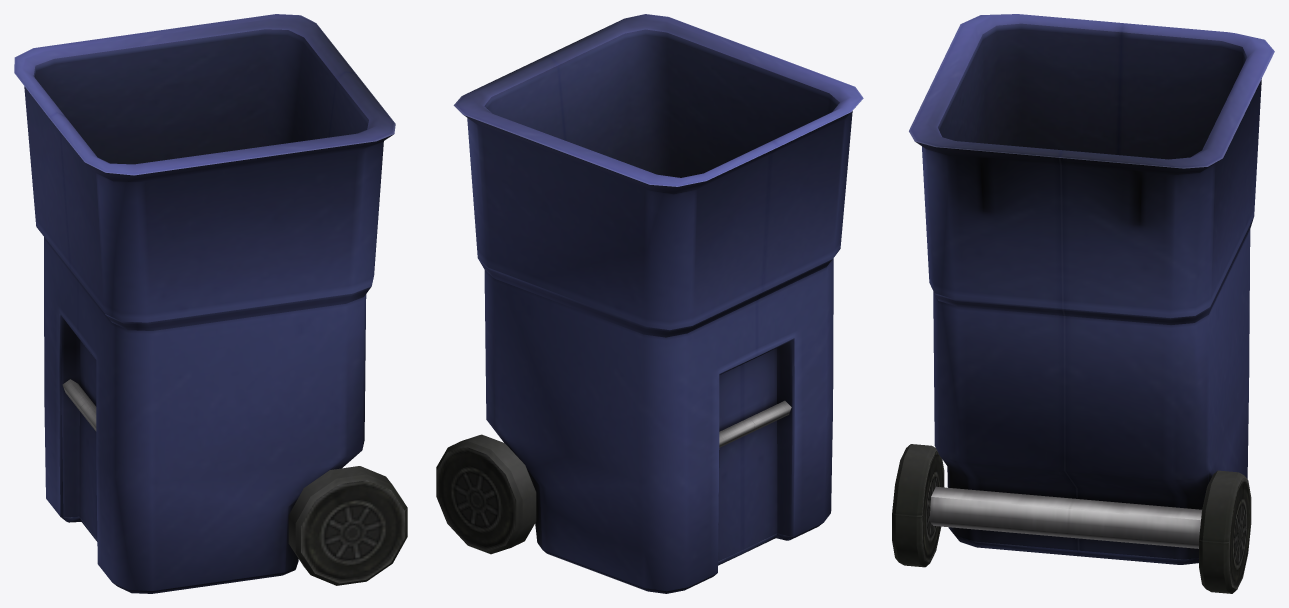
File: BianLiDian_01_lajitong_01.FBX
The picture shows the model from 3 angles, left to right: view 1: azimuth 30°, elevation 25°; view 2: azimuth 150°, elevation 25°; view 3: azimuth 270°, elevation 25°; orthographic projection. The views are drawn at different scales.
Parts seen in each view (by area): view 1: BianLiDian_01_lajitong_01; view 2: BianLiDian_01_lajitong_01; view 3: BianLiDian_01_lajitong_01.
Part boxes in pixels (box(x1,y1,x2,y2)): BianLiDian_01_lajitong_01: box(14, 14, 407, 593); BianLiDian_01_lajitong_01: box(436, 14, 863, 593); BianLiDian_01_lajitong_01: box(892, 14, 1274, 593).
Size of the model in its own units: 168 by 219 by 171.
